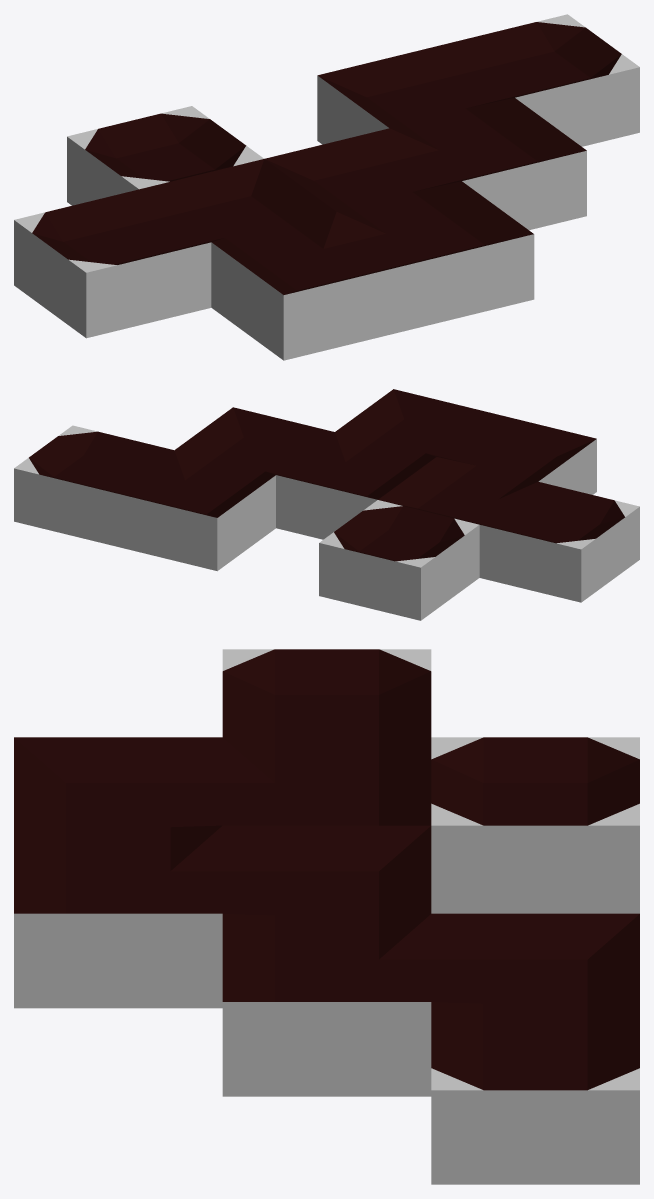
Rendered from 54s_path.obj.
3 renders of one model, top to bottom at view 1: azimuth 30°, elevation 25°; view 2: azimuth 150°, elevation 25°; view 3: azimuth 270°, elevation 25°, orthographic. The views are drawn at different scales.
Visible parts, largest first — view 1: ending.0.2_ending.513, corner.1.1_corner.1268, corner.2.1_corner.1270, ending.4.3_ending.514, corner.3.2_corner.1272, corner.3.3_corner.1273, hole.1.3_Cube.258, corner.1.2_corner.1269, corner.2.2_corner.1271; view 2: hole.1.3_Cube.258, ending.0.2_ending.513, corner.3.3_corner.1273, ending.4.3_ending.514, corner.2.2_corner.1271, corner.1.1_corner.1268, corner.2.1_corner.1270, corner.3.2_corner.1272, corner.1.2_corner.1269; view 3: hole.1.3_Cube.258, corner.3.2_corner.1272, corner.2.1_corner.1270, ending.4.3_ending.514, corner.2.2_corner.1271, corner.3.3_corner.1273, corner.1.1_corner.1268, ending.0.2_ending.513, corner.1.2_corner.1269.
Part boxes in pixels (x1,y1,x2,y2): ending.0.2_ending.513: (14,189,211,338); corner.1.1_corner.1268: (211,212,408,360); corner.2.1_corner.1270: (337,181,534,329); ending.4.3_ending.514: (443,14,639,146); corner.3.2_corner.1272: (390,98,586,230); corner.3.3_corner.1273: (317,45,513,144); hole.1.3_Cube.258: (67,106,263,205); corner.1.2_corner.1269: (139,159,336,250); corner.2.2_corner.1271: (264,128,460,220); hole.1.3_Cube.258: (319,500,479,620); ending.0.2_ending.513: (479,482,639,602); corner.3.3_corner.1273: (115,450,275,571); ending.4.3_ending.514: (14,425,173,546); corner.2.2_corner.1271: (276,432,435,539); corner.1.1_corner.1268: (437,414,596,494); corner.2.1_corner.1270: (335,389,494,463); corner.3.2_corner.1272: (174,407,334,481); corner.1.2_corner.1269: (378,457,537,526); hole.1.3_Cube.258: (431,737,639,913); corner.3.2_corner.1272: (222,914,431,1096); corner.2.1_corner.1270: (14,826,222,1008); ending.4.3_ending.514: (431,1002,639,1184); corner.2.2_corner.1271: (222,825,431,937); corner.3.3_corner.1273: (431,913,639,1025); corner.1.1_corner.1268: (14,737,222,849); ending.0.2_ending.513: (222,649,431,760); corner.1.2_corner.1269: (222,737,431,825).
Bounding box in the file's own units: 10 × 1 × 6.
